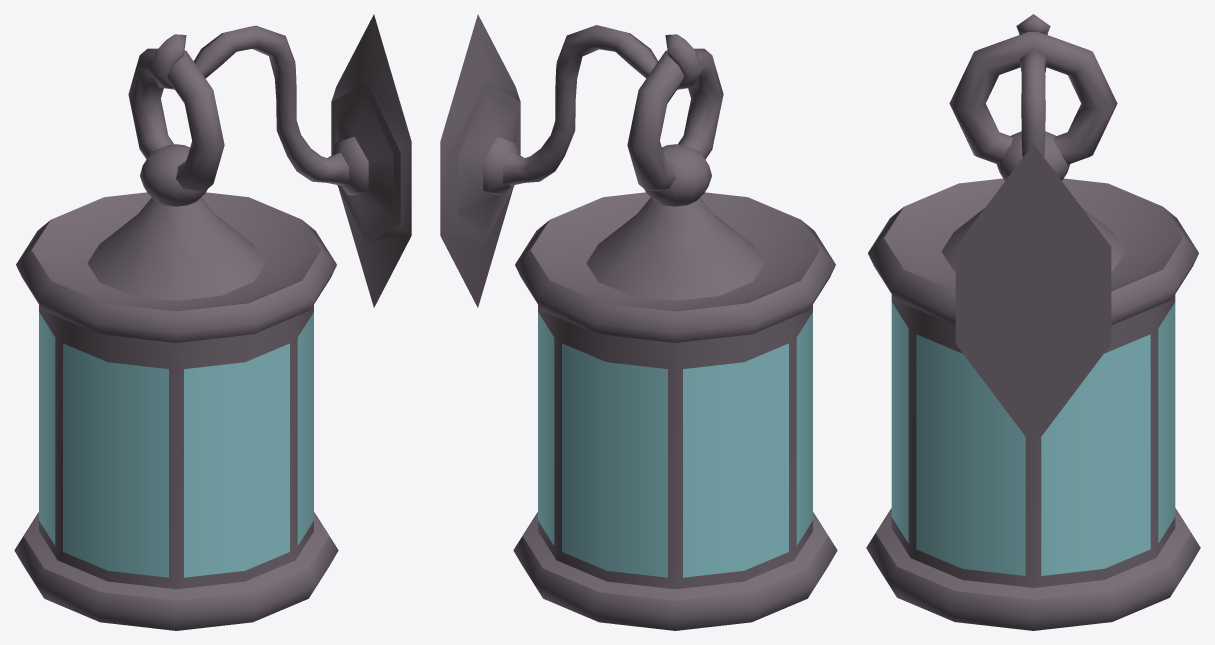
File: 109_classic_wall_lamp.glb
3 views of the same model, side by side, from view 1: azimuth 30°, elevation 25°; view 2: azimuth 150°, elevation 25°; view 3: azimuth 270°, elevation 25° (orthographic). The views are drawn at different scales.
Visible parts, largest first — view 1: lamp.001, lamp, handle, circle; view 2: lamp.001, lamp, handle, circle; view 3: lamp.001, lamp, handle, circle.
Boxes of the visible parts, box(x1,y1,x2,y2) form: lamp.001: box(39, 305, 313, 589); lamp: box(14, 144, 338, 630); handle: box(150, 14, 411, 307); circle: box(128, 48, 224, 190); lamp.001: box(538, 305, 812, 589); lamp: box(513, 144, 837, 630); handle: box(440, 14, 701, 307); circle: box(627, 48, 723, 190); lamp.001: box(891, 294, 1175, 587); lamp: box(866, 131, 1200, 630); handle: box(955, 14, 1111, 446); circle: box(949, 32, 1117, 164).
Size of the model in its own units: 0.6885 by 1.04 by 0.5724.
